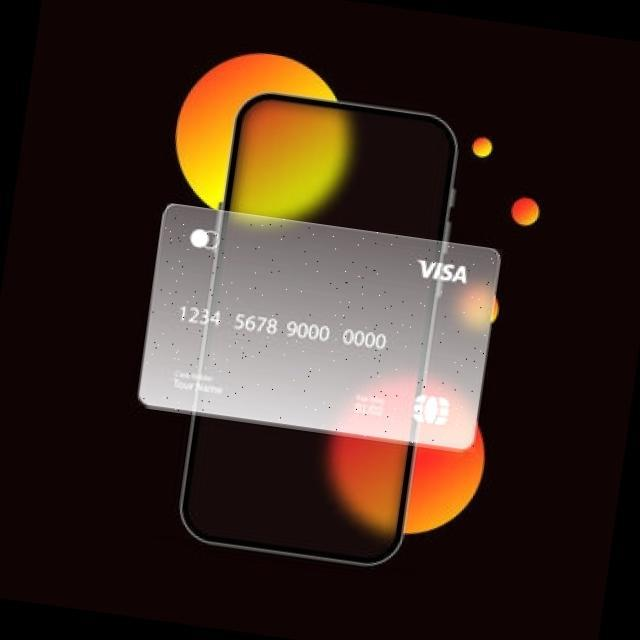payment_card: (136, 201, 501, 453)
